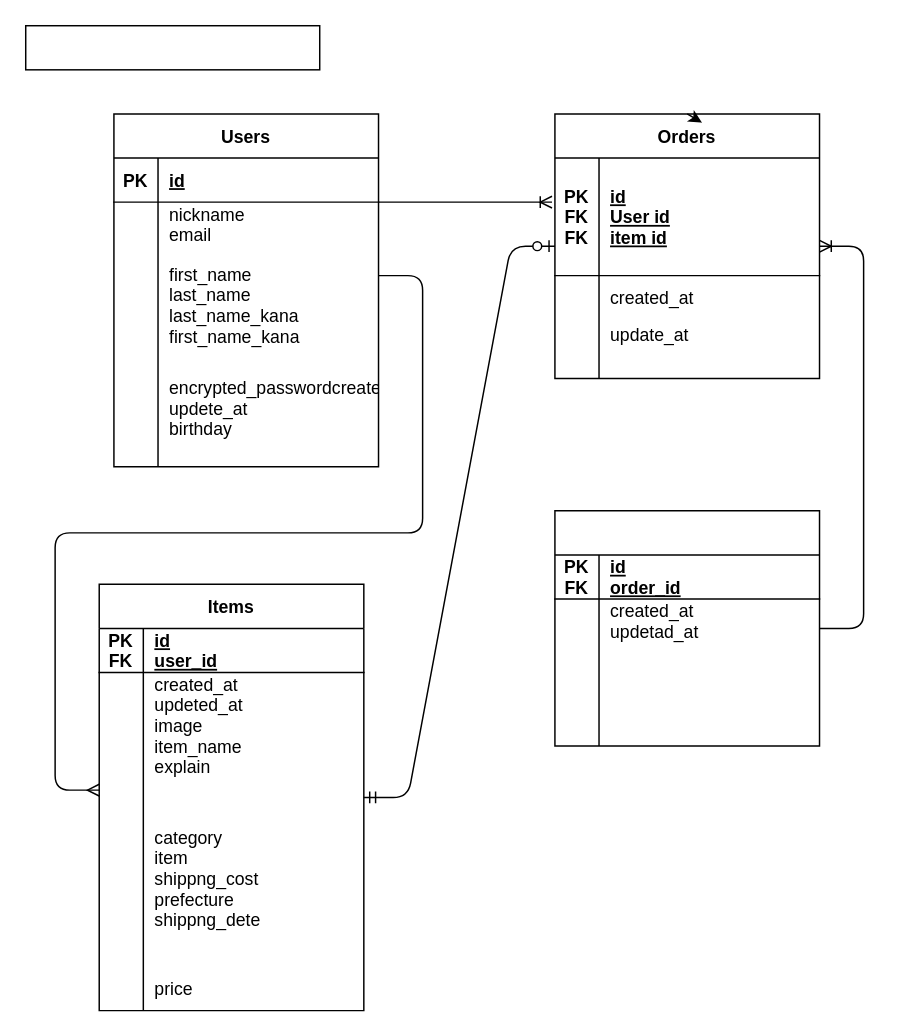
Image size: 901x1036. Some labels were removed from this diagram. Each missing label, with the box of its shape:
furima40120のER図: (24, 24, 320, 70)
ShippingAddress: (553, 509, 820, 746)
